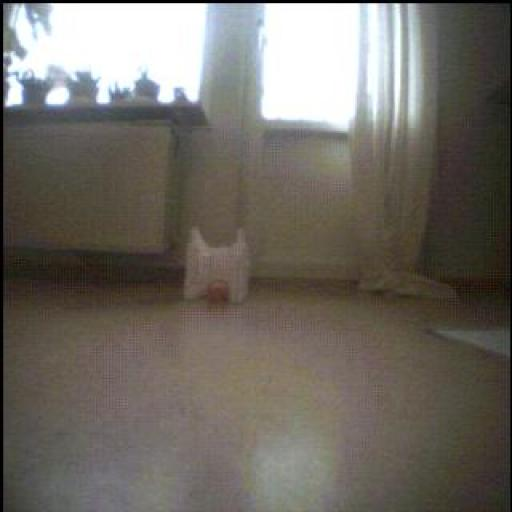Basket: (205, 279, 234, 309)
